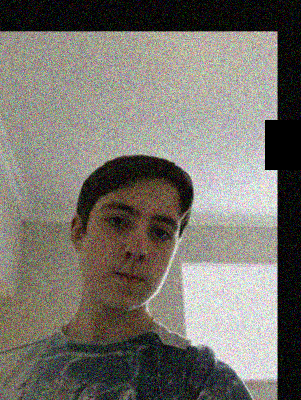without_mask: (80, 202, 181, 313)
